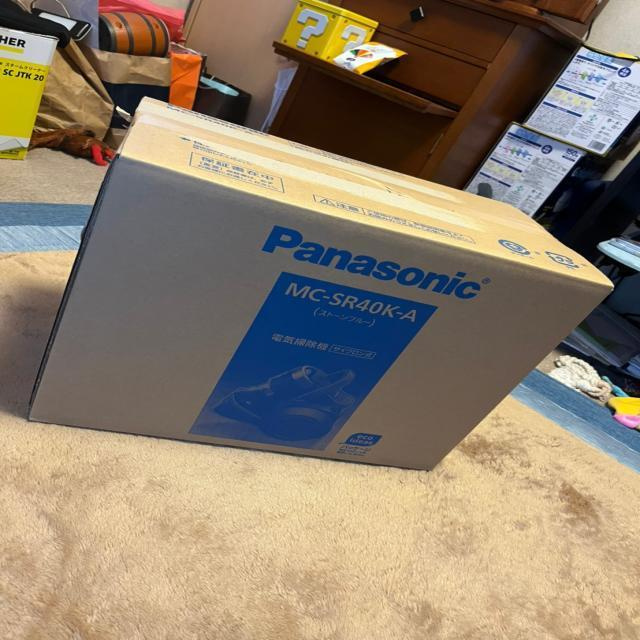box: (21, 90, 620, 479)
